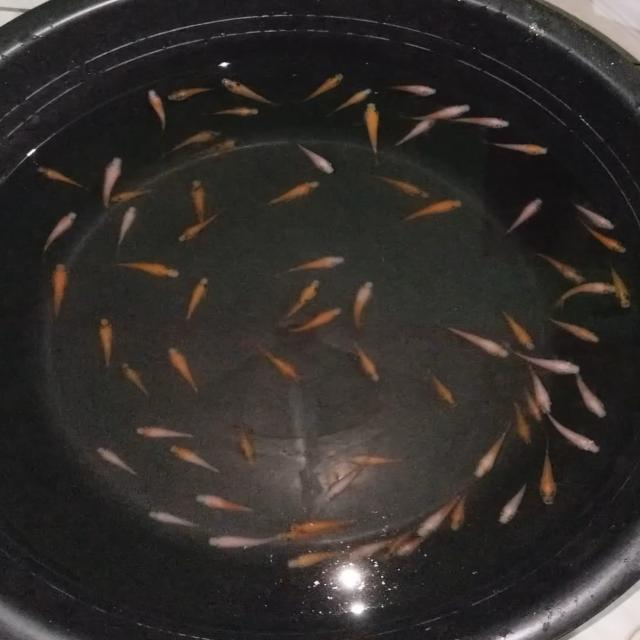nila: (543, 408, 600, 454), (508, 347, 584, 377), (472, 424, 513, 479), (317, 464, 373, 504), (291, 70, 347, 108), (168, 444, 227, 480), (158, 126, 220, 160), (496, 303, 538, 352), (534, 247, 588, 285), (372, 170, 436, 202), (278, 306, 344, 336), (398, 196, 468, 224), (444, 324, 505, 356), (415, 494, 461, 536), (542, 316, 606, 346), (218, 76, 284, 105), (580, 218, 630, 256), (280, 275, 322, 320), (96, 152, 128, 210), (262, 180, 323, 210), (326, 80, 374, 118), (556, 279, 616, 308), (279, 252, 351, 276), (166, 346, 202, 394), (292, 136, 334, 177), (40, 210, 74, 260), (502, 198, 544, 238), (193, 492, 263, 516), (108, 204, 140, 256), (254, 346, 300, 382), (404, 100, 471, 124), (573, 370, 605, 420), (176, 208, 223, 242), (538, 443, 562, 507), (426, 370, 461, 413), (144, 507, 204, 532), (95, 446, 141, 478), (112, 258, 185, 278), (351, 278, 379, 330), (35, 166, 90, 192), (348, 340, 382, 382), (574, 202, 618, 234), (607, 262, 636, 310), (500, 482, 530, 528), (383, 524, 420, 561), (394, 113, 434, 147), (344, 538, 400, 562), (528, 360, 552, 415), (234, 410, 256, 470), (198, 532, 280, 548), (202, 134, 252, 160), (282, 550, 353, 568), (362, 100, 384, 157), (186, 178, 212, 225), (133, 424, 200, 442), (121, 361, 150, 402), (290, 516, 374, 530), (145, 86, 171, 131), (492, 137, 550, 157), (271, 525, 332, 544), (51, 260, 69, 324), (451, 115, 517, 132), (186, 276, 210, 322), (166, 82, 216, 104), (449, 490, 473, 533), (102, 186, 156, 204), (98, 316, 114, 372), (387, 81, 442, 97), (202, 104, 264, 118), (514, 404, 534, 446), (351, 453, 406, 468), (521, 388, 543, 424), (399, 537, 435, 557)
